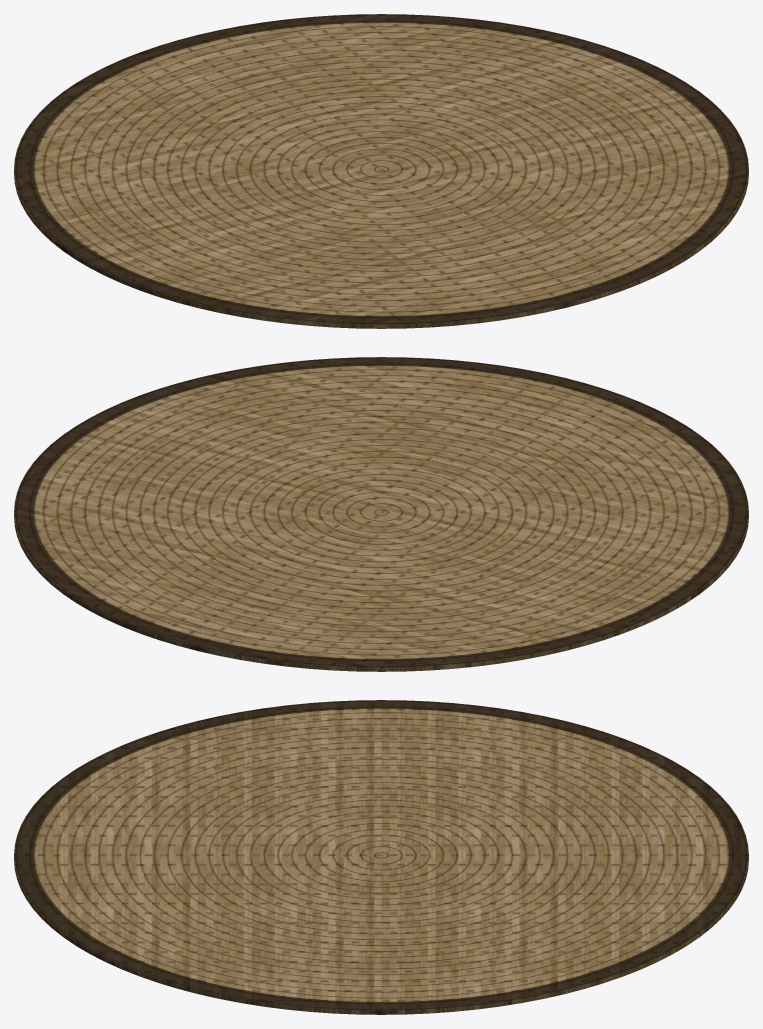
File: alfombra_redonda_yute_160.glb
The picture shows the model from 3 angles, top to bottom: view 1: azimuth 30°, elevation 25°; view 2: azimuth 150°, elevation 25°; view 3: azimuth 270°, elevation 25°; orthographic projection.
Parts seen in each view (by area): view 1: alfombra_redonda_yute_160; view 2: alfombra_redonda_yute_160; view 3: alfombra_redonda_yute_160.
Part boxes in pixels (x1,y1,x2,y2): alfombra_redonda_yute_160: [14, 14, 748, 328]; alfombra_redonda_yute_160: [14, 357, 748, 671]; alfombra_redonda_yute_160: [14, 700, 748, 1014].
Bounding box in the file's own units: 1.6 × 0.01 × 1.6.
1 material, 1 textured.
